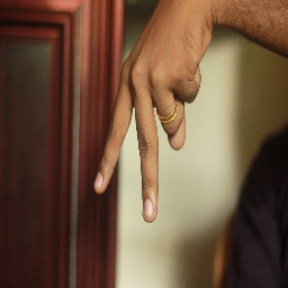Y: (94, 52, 200, 224)
